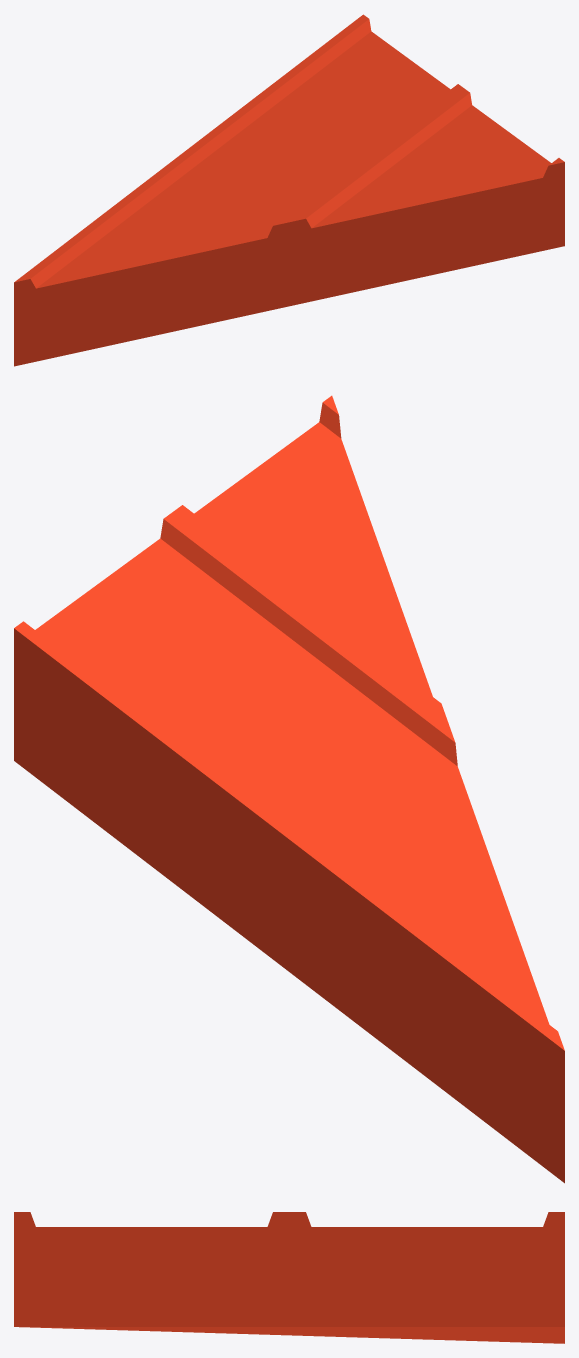
File: roof-metal-moderate-1x1m-diagonal.fbx
The picture shows the model from 3 angles, top to bottom: view 1: azimuth 30°, elevation 25°; view 2: azimuth 150°, elevation 25°; view 3: azimuth 270°, elevation 25°; orthographic projection. The views are drawn at different scales.
Parts seen in each view (by area): view 1: roof-metal-moderate-1x1m-diagonal; view 2: roof-metal-moderate-1x1m-diagonal; view 3: roof-metal-moderate-1x1m-diagonal.
Part boxes in pixels (<box>): roof-metal-moderate-1x1m-diagonal: <box>14,14,564,366</box>; roof-metal-moderate-1x1m-diagonal: <box>14,395,564,1183</box>; roof-metal-moderate-1x1m-diagonal: <box>14,1212,564,1343</box>.
Size of the model in its own units: 1 by 0.7301 by 1.
